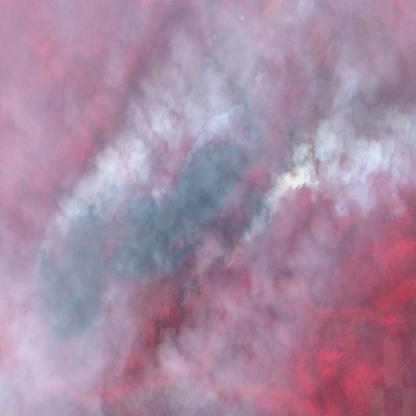fire: (32, 172, 130, 347), (176, 173, 286, 306), (191, 63, 251, 127)
